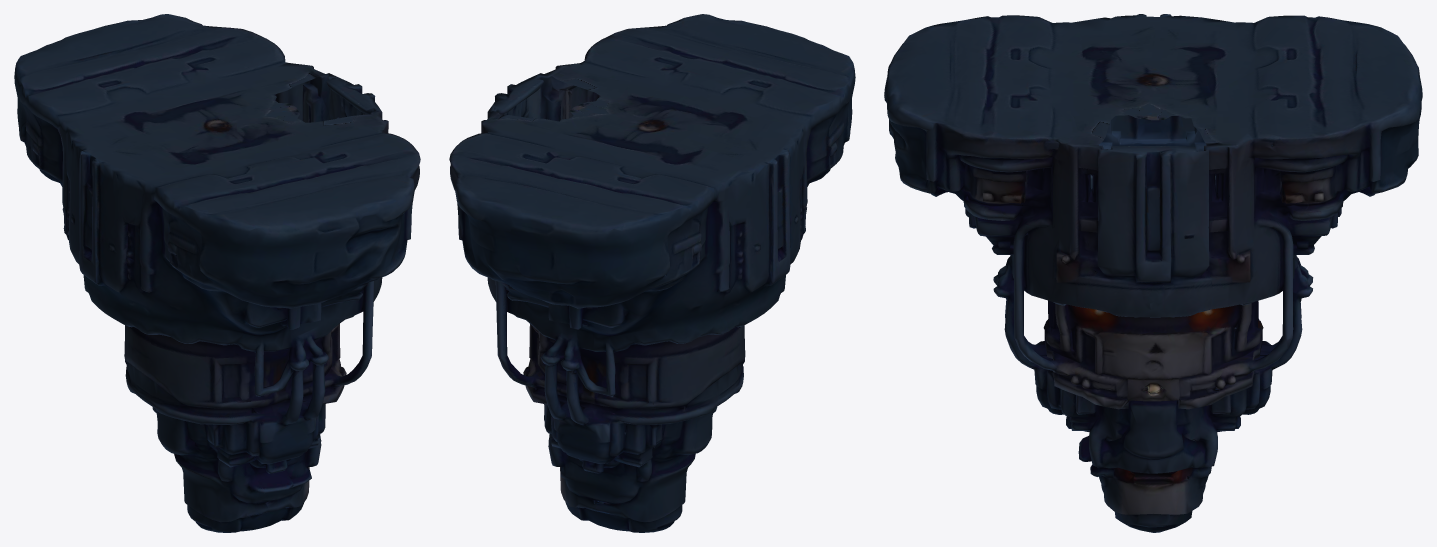
Rendered from waterthrower.fbx.
3 views of the same model, side by side, from view 1: azimuth 30°, elevation 25°; view 2: azimuth 150°, elevation 25°; view 3: azimuth 270°, elevation 25° (orthographic). The views are drawn at different scales.
Visible parts, largest first — view 1: tripo_node_d0e8ee4c; view 2: tripo_node_d0e8ee4c; view 3: tripo_node_d0e8ee4c.
Part boxes in pixels (box(x1,y1,x2,y2)): tripo_node_d0e8ee4c: box(14, 14, 420, 532); tripo_node_d0e8ee4c: box(449, 14, 855, 532); tripo_node_d0e8ee4c: box(884, 14, 1422, 532).
Size of the model in its own units: 0.6281 by 0.8745 by 0.9989.
Materials: 1 (1 with a texture image).
